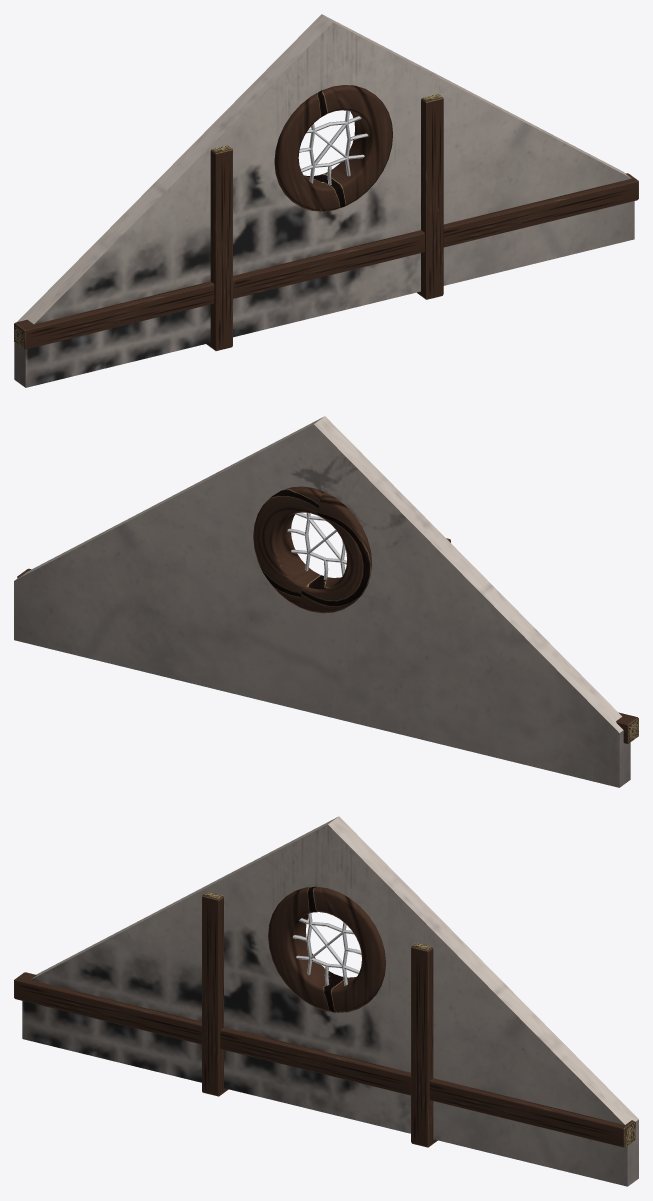
The model's file is Roof_Wall_V1.fbx.
The picture shows the model from 3 angles, top to bottom: view 1: azimuth 30°, elevation 25°; view 2: azimuth 150°, elevation 25°; view 3: azimuth 330°, elevation 25°; orthographic projection.
Visible parts, largest first — view 1: Roof_Tile1.012; view 2: Roof_Tile1.012; view 3: Roof_Tile1.012.
Boxes of the visible parts, x1,y1,x2,y2 form: Roof_Tile1.012: [14, 14, 638, 387]; Roof_Tile1.012: [14, 416, 638, 787]; Roof_Tile1.012: [14, 816, 638, 1186].
Size of the model in its own units: 474 by 218 by 27.12.
